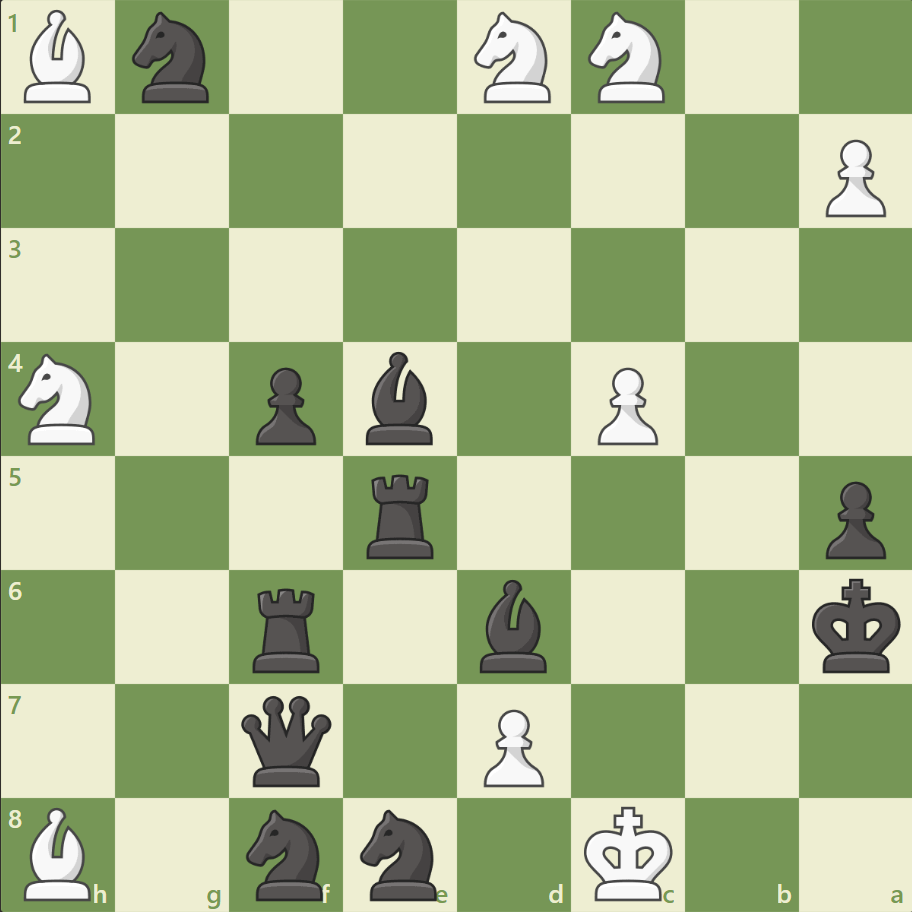B: (17, 801, 101, 904), (17, 6, 101, 109)
K: (579, 798, 679, 906)
N: (579, 7, 676, 110), (465, 7, 562, 110), (11, 348, 108, 450)
P: (474, 700, 549, 791), (588, 359, 662, 450), (815, 132, 889, 223)
b: (471, 574, 555, 676), (358, 347, 442, 449)
k: (806, 571, 906, 679)
n: (124, 7, 222, 110), (351, 802, 449, 904), (238, 802, 335, 904)
p: (247, 359, 322, 450), (815, 473, 889, 564)
q: (237, 690, 336, 789)
r: (246, 579, 329, 676), (360, 466, 442, 563)
